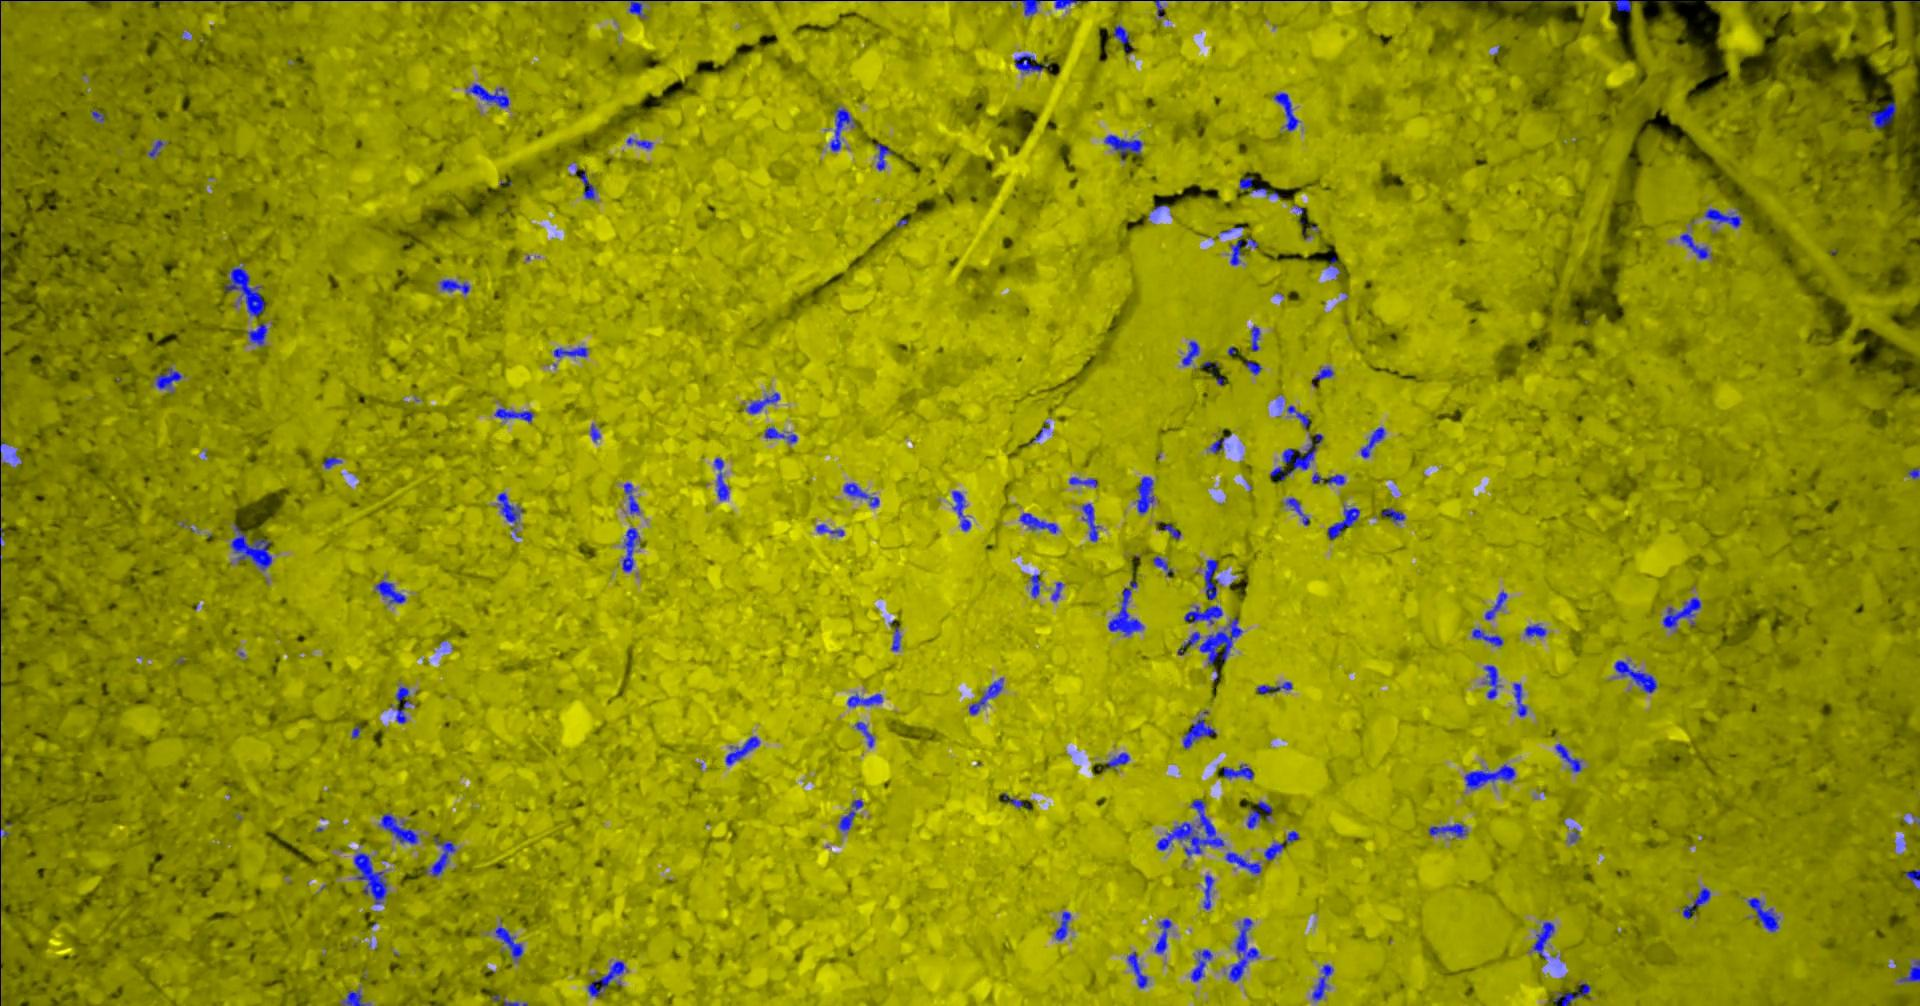ant: (1178, 617, 1244, 664), (1271, 433, 1324, 480), (1109, 579, 1145, 635), (226, 267, 265, 316), (1230, 918, 1260, 981), (232, 525, 273, 569), (356, 852, 389, 904), (1617, 661, 1658, 692), (425, 835, 457, 876), (589, 960, 626, 996), (1465, 763, 1516, 789), (970, 677, 1004, 714), (380, 813, 419, 843), (1663, 597, 1702, 627), (1749, 897, 1782, 931), (830, 108, 856, 151), (1265, 829, 1300, 860), (1330, 506, 1361, 539), (1183, 716, 1217, 748), (1106, 133, 1144, 160), (469, 83, 510, 107), (497, 926, 524, 962), (1275, 91, 1300, 130), (844, 481, 881, 507), (728, 735, 761, 763), (1684, 887, 1712, 918), (1554, 982, 1592, 1005), (1021, 512, 1060, 533), (1534, 921, 1556, 959), (1230, 235, 1258, 264), (1227, 851, 1263, 873), (623, 527, 641, 572), (1681, 232, 1712, 258), (499, 492, 524, 522), (1313, 964, 1335, 1000), (1241, 177, 1280, 196), (952, 490, 971, 530), (1185, 605, 1224, 624), (1129, 951, 1149, 988), (1869, 102, 1897, 128), (1557, 743, 1583, 771), (841, 799, 865, 829), (1705, 208, 1743, 227), (1363, 426, 1385, 457), (377, 580, 408, 603), (1083, 503, 1101, 541), (1248, 801, 1274, 828), (748, 392, 781, 413), (715, 457, 730, 500), (1138, 476, 1156, 513), (1192, 949, 1213, 981), (1288, 497, 1310, 525), (1486, 591, 1509, 619), (577, 166, 596, 199), (1156, 918, 1173, 953), (1115, 24, 1134, 55), (1473, 627, 1503, 647), (1016, 53, 1045, 72), (1288, 405, 1310, 429), (157, 367, 183, 389), (1486, 666, 1502, 699), (1430, 823, 1468, 837), (766, 427, 797, 443), (625, 481, 641, 513), (1206, 559, 1219, 600), (397, 686, 411, 723), (1514, 683, 1529, 716), (497, 408, 535, 420), (856, 721, 875, 747), (876, 144, 894, 170), (248, 323, 268, 345), (1224, 763, 1255, 779), (1258, 681, 1294, 694), (848, 694, 884, 706), (1057, 911, 1072, 940), (1314, 366, 1335, 387), (1211, 433, 1233, 453), (1900, 960, 1920, 982), (1183, 340, 1201, 365), (441, 279, 471, 293), (1004, 793, 1031, 808), (1107, 752, 1131, 768), (555, 345, 589, 357), (1154, 556, 1175, 575), (345, 989, 371, 1005), (1611, 0, 1644, 11), (1313, 473, 1346, 484), (1205, 874, 1215, 909), (1383, 507, 1406, 522), (818, 523, 844, 536), (149, 138, 165, 158), (630, 0, 648, 17), (629, 137, 654, 149), (1526, 622, 1547, 636), (1023, 0, 1041, 15), (1055, 0, 1090, 8), (1070, 478, 1098, 486), (1164, 525, 1182, 539), (1247, 359, 1263, 373), (1906, 869, 1920, 885), (1252, 325, 1261, 351), (893, 625, 902, 650), (324, 456, 343, 467), (1053, 580, 1064, 600), (1032, 574, 1041, 597), (592, 424, 601, 441), (1495, 0, 1552, 1)
